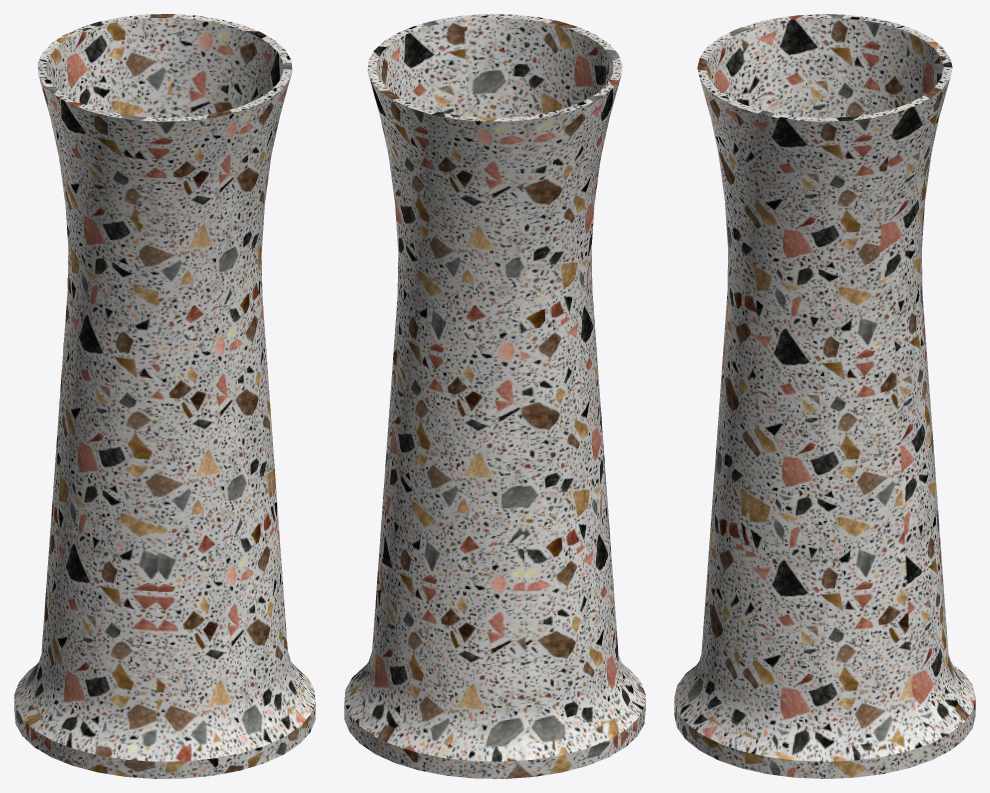
Rendered from KitchenFlowerVase2.fbx.
3 views of the same model, side by side, from view 1: azimuth 30°, elevation 25°; view 2: azimuth 150°, elevation 25°; view 3: azimuth 270°, elevation 25° (orthographic).
Visible parts, largest first — view 1: KitchenFlowerVase2_Baked; view 2: KitchenFlowerVase2_Baked; view 3: KitchenFlowerVase2_Baked.
Part boxes in pixels (<box>): KitchenFlowerVase2_Baked: <box>14,14,315,778</box>; KitchenFlowerVase2_Baked: <box>344,14,645,778</box>; KitchenFlowerVase2_Baked: <box>674,14,975,778</box>.
Size of the model in its own units: 11.46 by 27.13 by 11.46.
Materials: 1 (1 with a texture image).
